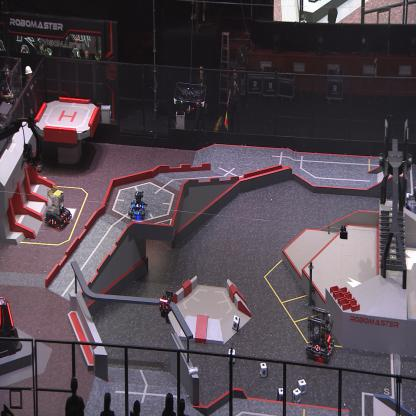car: (304, 305, 334, 363), (43, 184, 73, 230), (397, 186, 416, 221), (127, 189, 148, 220)
